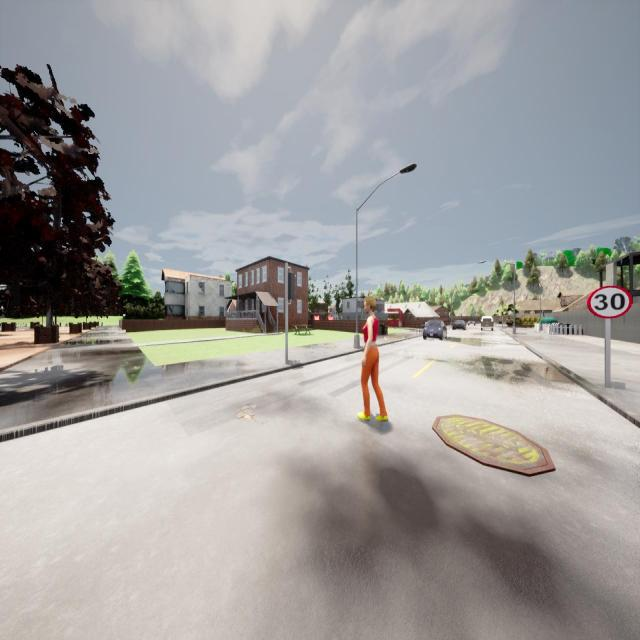Pedestrian: (357, 296, 387, 421)
Traffic_Signs: (588, 285, 632, 320)
Vehicle: (422, 320, 448, 340), (480, 316, 494, 331), (452, 320, 466, 331), (468, 320, 476, 326)
traffic_light: (288, 274, 296, 299), (502, 310, 504, 315)
